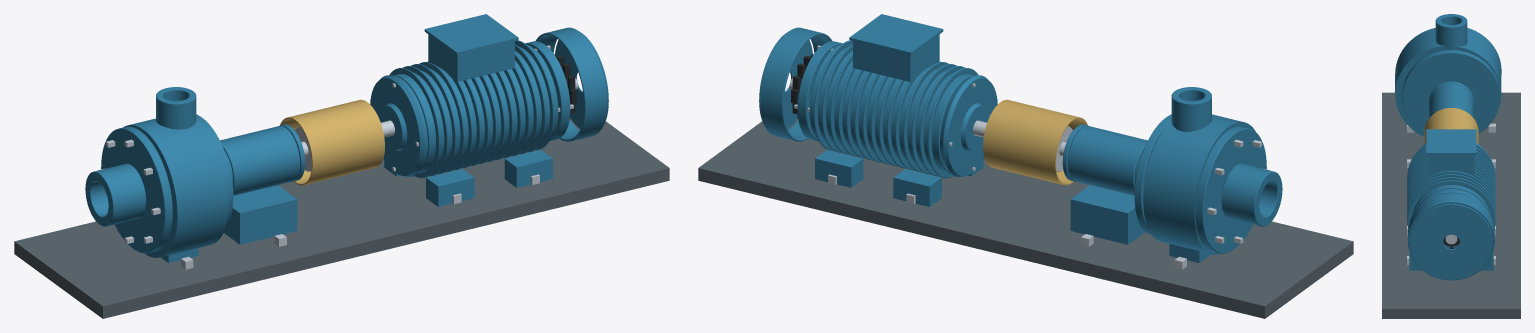
The picture shows the model from 3 angles, left to right: view 1: azimuth 30°, elevation 25°; view 2: azimuth 150°, elevation 25°; view 3: azimuth 270°, elevation 25°; orthographic projection. The views are drawn at different scales.
Parts seen in each view (by area): view 1: Machined_baseplate, Motor_finned_housing, Volute_casing, Coupling_safety_guard, Motor_terminal_box, Suction_cover, Fan_cover, Pump_bearing_carrier, Motor_DE_end_shield, Pump_support_pedestal, Suction_nozzle_flange, Motor_mounting_feet (+5 smaller); view 2: Machined_baseplate, Motor_finned_housing, Volute_casing, Coupling_safety_guard, Motor_terminal_box, Suction_cover, Fan_cover, Pump_bearing_carrier, Motor_DE_end_shield, Pump_support_pedestal, Suction_nozzle_flange, Motor_mounting_feet (+5 smaller); view 3: Machined_baseplate, Fan_cover, Back_plate, Motor_finned_housing, Volute_casing, Motor_terminal_box, Pump_bearing_carrier, Discharge_neck_and_flange, Coupling_safety_guard, Motor_NDE_end_shield, Mounting_fasteners, Motor_mounting_feet (+2 smaller).
Boxes of the visible parts, <box> form: Machined_baseplate: <box>14,118,669,318</box>; Motor_finned_housing: <box>389,40,558,178</box>; Volute_casing: <box>123,118,228,257</box>; Coupling_safety_guard: <box>280,99,384,185</box>; Motor_terminal_box: <box>424,14,518,81</box>; Suction_cover: <box>101,126,172,253</box>; Fan_cover: <box>535,27,608,141</box>; Pump_bearing_carrier: <box>220,126,300,195</box>; Motor_DE_end_shield: <box>370,75,427,177</box>; Pump_support_pedestal: <box>161,185,297,262</box>; Suction_nozzle_flange: <box>85,163,146,226</box>; Motor_mounting_feet: <box>384,149,552,206</box>; Machined_baseplate: <box>698,118,1353,318</box>; Motor_finned_housing: <box>809,40,978,178</box>; Volute_casing: <box>1143,114,1255,254</box>; Coupling_safety_guard: <box>983,99,1087,185</box>; Motor_terminal_box: <box>849,14,943,81</box>; Suction_cover: <box>1195,126,1266,253</box>; Fan_cover: <box>759,27,832,141</box>; Pump_bearing_carrier: <box>1067,126,1147,195</box>; Motor_DE_end_shield: <box>940,75,997,177</box>; Pump_support_pedestal: <box>1070,185,1211,262</box>; Suction_nozzle_flange: <box>1221,163,1282,226</box>; Motor_mounting_feet: <box>815,149,983,206</box>; Machined_baseplate: <box>1382,92,1520,318</box>; Fan_cover: <box>1408,193,1494,280</box>; Back_plate: <box>1402,50,1500,133</box>; Motor_finned_housing: <box>1407,144,1495,233</box>; Volute_casing: <box>1395,28,1501,136</box>; Motor_terminal_box: <box>1426,129,1476,176</box>; Pump_bearing_carrier: <box>1429,83,1473,117</box>; Discharge_neck_and_flange: <box>1435,14,1467,50</box>; Coupling_safety_guard: <box>1424,108,1478,143</box>; Motor_NDE_end_shield: <box>1412,189,1490,248</box>; Mounting_fasteners: <box>1407,123,1495,264</box>; Motor_mounting_feet: <box>1409,251,1493,270</box>.
Bounding box in the file's own units: 1.88 × 0.515 × 0.51.
